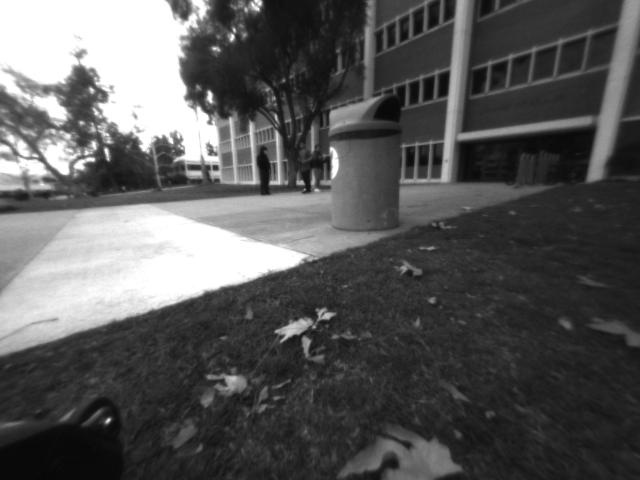trashcan: (313, 91, 408, 234)
